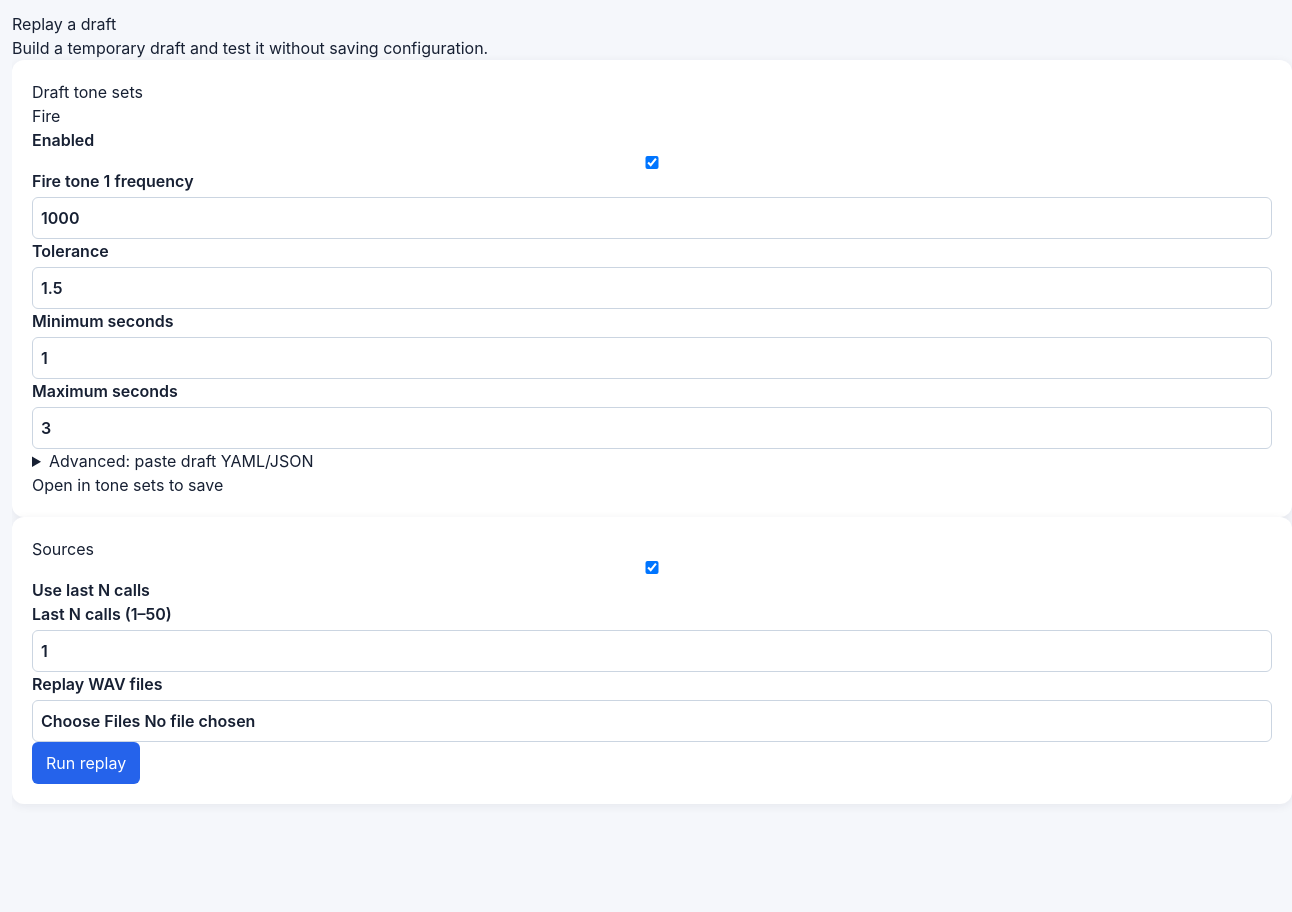
Test: M19m replay admin UI › renders replay error 422
Expected: the text "Fire" is shown, [32,104,60,128]
Click the button "Run replay": {"x": 86, "y": 763} [32,742,140,784]
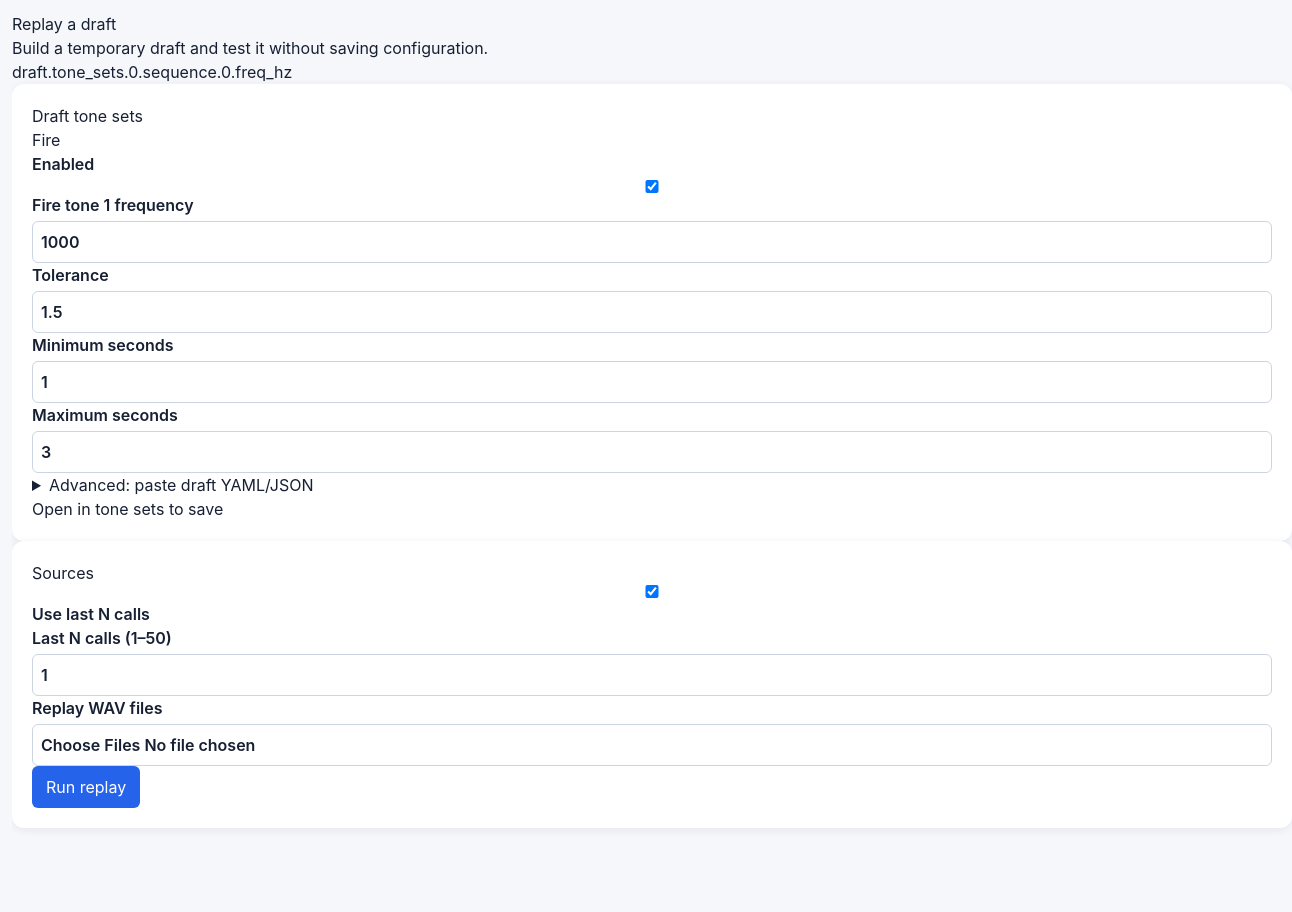
Result: the message reads "draft.tone_sets.0.sequence.0.freq_hz" at [12,62,292,82]
